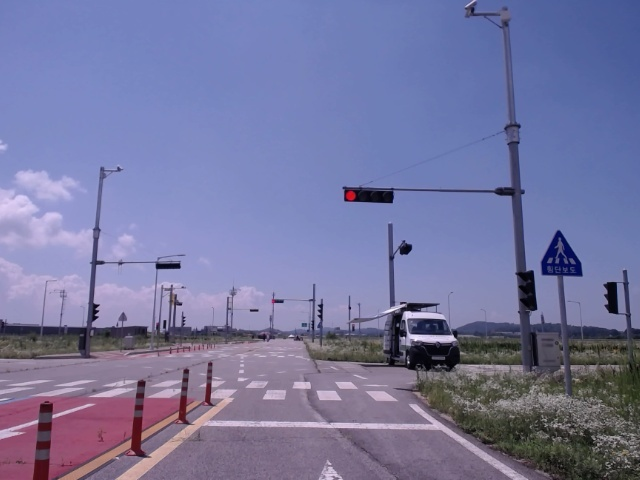red_4: (344, 190, 393, 203)
